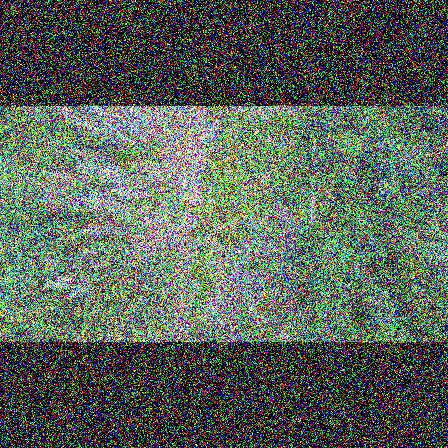Dead: (63, 115, 126, 150), (113, 113, 155, 152), (108, 125, 148, 154), (135, 112, 166, 147), (77, 161, 123, 183), (77, 195, 135, 210), (42, 172, 93, 188), (63, 278, 98, 301), (41, 271, 84, 289), (103, 163, 135, 183), (108, 187, 155, 196), (67, 228, 130, 234)
